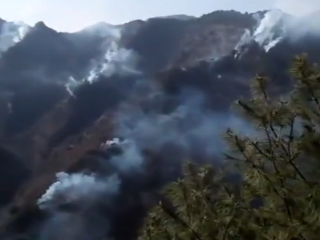smoke: (30, 126, 144, 238), (68, 30, 145, 90), (239, 9, 295, 55), (11, 16, 29, 47)
